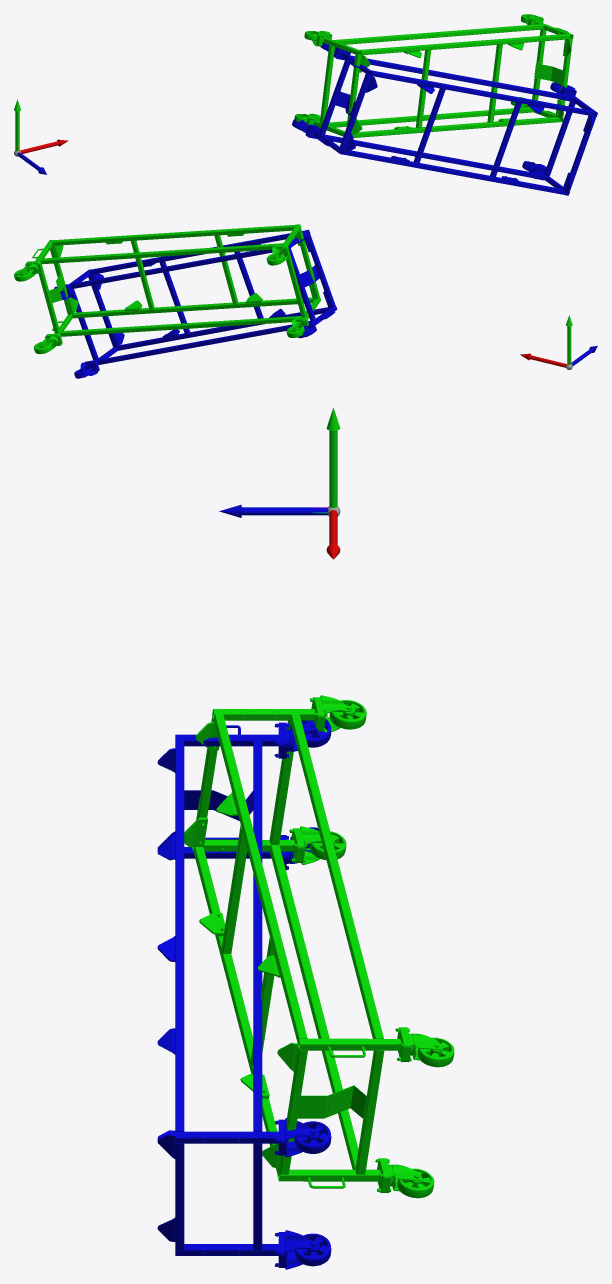
File: combined_scene_sample_943.glb
The picture shows the model from 3 angles, top to bottom: view 1: azimuth 30°, elevation 25°; view 2: azimuth 150°, elevation 25°; view 3: azimuth 270°, elevation 25°; orthographic projection. The views are drawn at different scales.
Visible parts, largest first — view 1: gt, pred, frame; view 2: pred, gt, frame; view 3: pred, gt, frame.
Part boxes in pixels (x1=…): gt: x1=292, y1=42, x2=597, y2=195; pred: x1=294, y1=14, x2=573, y2=137; frame: x1=14, y1=99, x2=68, y2=174; pred: x1=14, y1=224, x2=320, y2=353; gt: x1=54, y1=229, x2=337, y2=378; frame: x1=520, y1=315, x2=597, y2=369; pred: x1=184, y1=695, x2=454, y2=1198; gt: x1=157, y1=719, x2=331, y2=1269; frame: x1=219, y1=407, x2=340, y2=559.
Bounding box in the file's own units: 5.38 × 1.82 × 1.29.
